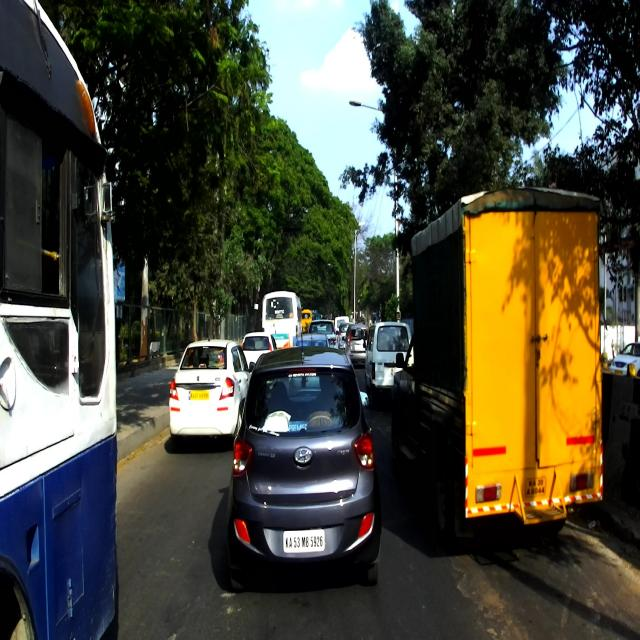Car: (609, 341, 640, 381), (294, 332, 330, 349), (335, 322, 356, 350)
Car_Hyundai: (226, 332, 382, 590)
Car_Maruti-Suzuki: (167, 339, 255, 449), (363, 321, 417, 407), (342, 324, 370, 365)
Car_TATA: (242, 332, 276, 367), (334, 314, 350, 336)
Car_Toyota: (309, 319, 338, 350)
bus: (0, 0, 119, 638), (261, 290, 302, 350), (301, 308, 312, 334)
truck: (389, 179, 606, 560)
